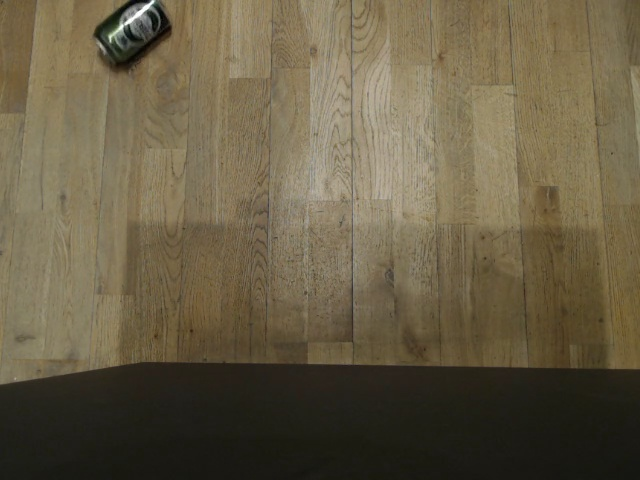beer: (87, 0, 176, 72)
